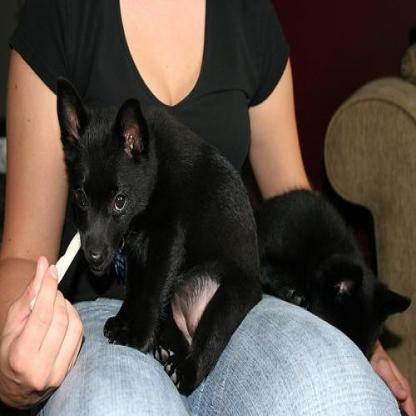schipperke: (52, 70, 262, 395), (250, 185, 412, 363)
